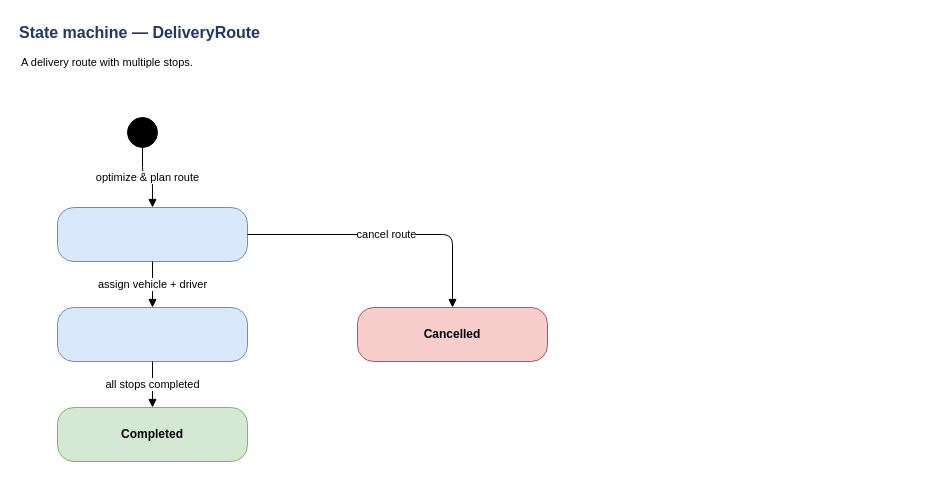
Some shapes in this 934 by 479 pixel diagram are drawn without their labels. Each missing label, with the box of its shape:
Dispatched: (56, 306, 248, 362)
Planned: (56, 206, 248, 262)
